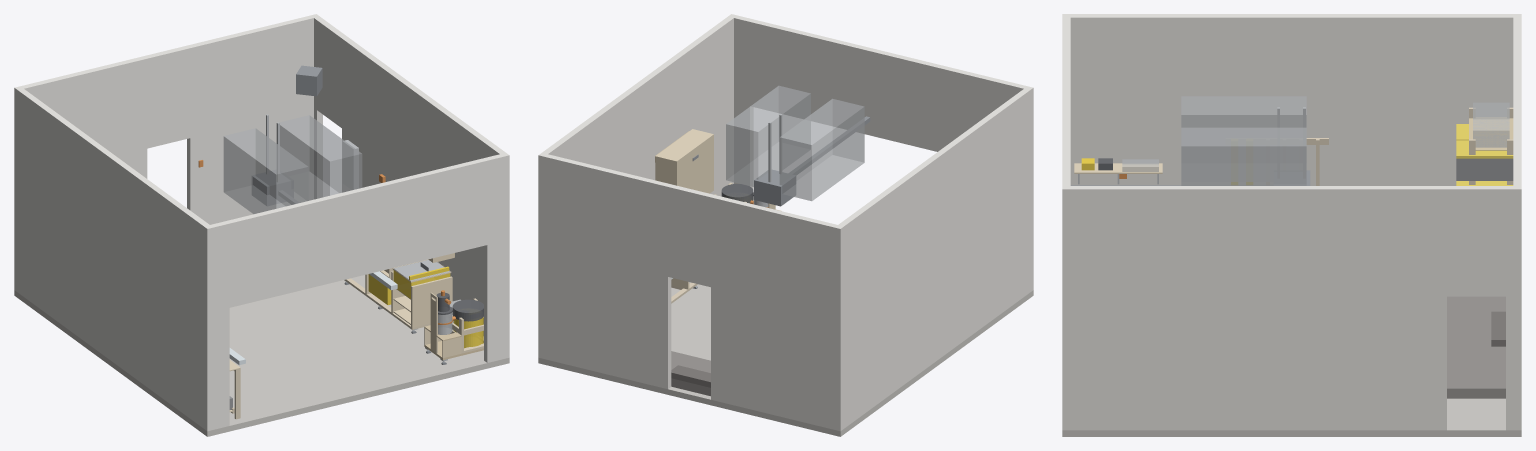
Rendered from garage-shop-planer.glb.
3 renders of one model, left to right at view 1: azimuth 30°, elevation 25°; view 2: azimuth 150°, elevation 25°; view 3: azimuth 270°, elevation 25°, orthographic. The views are drawn at different scales.
Visible parts, largest first — view 1: Wall West/west wall, Wall North/north wall, Slab/slab, Wall South/door header, Wall East/east wall, Bike Hoists/bike 1, Wall South/south return west, Bike Hoists/bike 2, Wall South/south return east, Flip Bench/end panel S, Garage Opener/motor, Heater/unit heater (+3 smaller); view 2: Wall North/north wall, Wall West/west wall, Wall South/door header, Wall East/east wall, Bike Hoists/bike 1, Bike Hoists/bike 2, Slab/slab, Wall South/south return east, Garage Opener/motor, Wall South/south return west, Door South/face, Landing/landing (+5 smaller); view 3: Wall East/east wall, Wall West/west wall, Bike Hoists/bike 1, Bike Hoists/bike 2, Landing/landing, Slab/slab, Wall North/north wall, Wall South/south return east, Bulk Rack/light bins, Bulk Rack/shelf 4, Wall South/door header, Bulk Rack/tote 3-2 (+5 smaller).
Part boxes in pixels (x1,y1,x2,y2): Wall West/west wall: (18,89,209,428); Wall North/north wall: (14,14,319,292); Slab/slab: (14,275,509,436); Wall South/door header: (226,158,487,307); Wall East/east wall: (314,16,505,335); Bike Hoists/bike 1: (223,128,308,214); Wall South/south return west: (204,221,229,431); Bike Hoists/bike 2: (279,115,362,200); Wall South/south return east: (484,153,509,362); Flip Bench/end panel S: (411,276,452,327); Garage Opener/motor: (252,170,293,205); Heater/unit heater: (296,65,322,96); Wall North/north wall: (538,153,843,431); Wall West/west wall: (838,89,1029,428); Wall South/door header: (750,19,1010,151); Wall East/east wall: (542,16,733,196); Bike Hoists/bike 1: (779,98,864,201); Bike Hoists/bike 2: (726,85,810,186); Slab/slab: (538,282,1033,436); Wall South/south return east: (728,14,753,198); Garage Opener/motor: (754,169,796,206); Wall South/south return west: (1008,82,1033,292); Door South/face: (695,134,713,193); Landing/landing: (671,351,710,396); Wall East/east wall: (1070,186,1513,430); Wall West/west wall: (1070,14,1513,185); Bike Hoists/bike 1: (1181,96,1306,181); Bike Hoists/bike 2: (1181,127,1306,185); Landing/landing: (1447,296,1505,398); Slab/slab: (1062,398,1521,436); Wall North/north wall: (1513,14,1521,430); Wall South/south return east: (1062,176,1070,430); Bulk Rack/light bins: (1473,102,1509,147); Bulk Rack/shelf 4: (1469,117,1513,150); Wall South/door header: (1062,27,1070,176); Bulk Rack/tote 3-2: (1456,158,1513,180).
Bounding box in the file's own units: 225 × 148 × 249.
